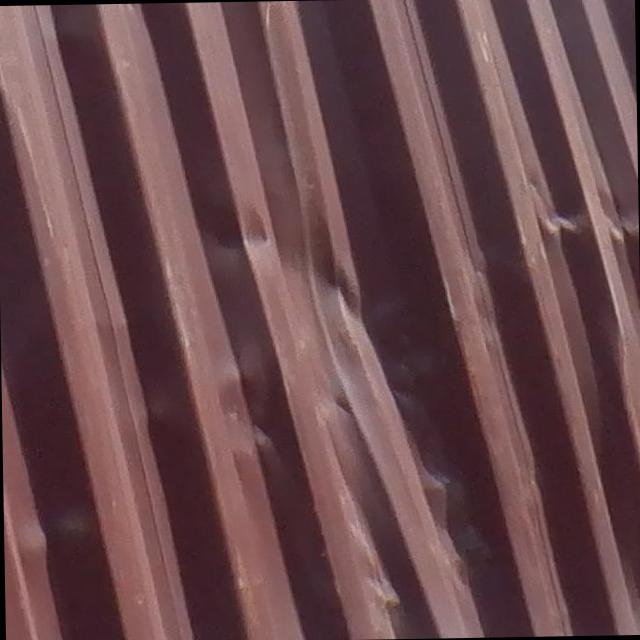Deframe_or_Dent: (202, 0, 504, 532)
